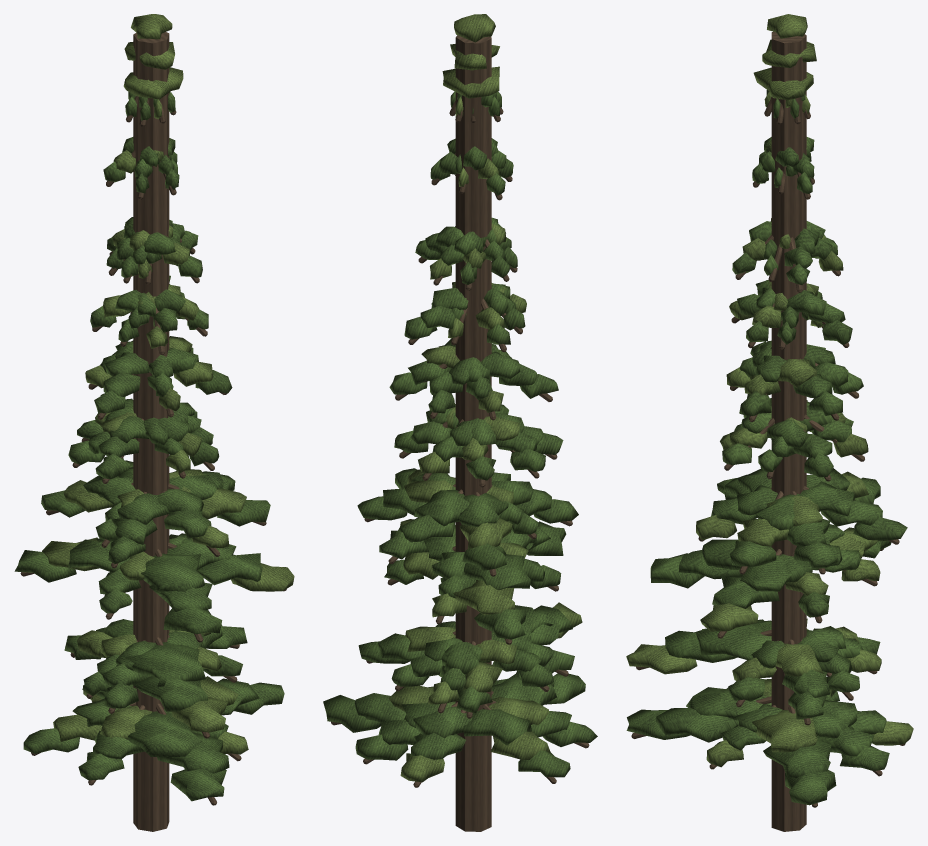
Rendered from pine_a.glb.
The picture shows the model from 3 angles, left to right: view 1: azimuth 30°, elevation 25°; view 2: azimuth 150°, elevation 25°; view 3: azimuth 270°, elevation 25°; orthographic projection.
Parts seen in each view (by area): view 1: pine_a__Pine_needles, pine_a__Sunlit_pine_tips, pine_a__Dark_endgrain; view 2: pine_a__Pine_needles, pine_a__Sunlit_pine_tips, pine_a__Dark_endgrain; view 3: pine_a__Pine_needles, pine_a__Sunlit_pine_tips, pine_a__Dark_endgrain.
Boxes of the visible parts, x1=… form: pine_a__Pine_needles: x1=14, y1=91, x2=284, y2=801; pine_a__Sunlit_pine_tips: x1=42, y1=14, x2=294, y2=754; pine_a__Dark_endgrain: x1=20, y1=32, x2=286, y2=831; pine_a__Pine_needles: x1=323, y1=91, x2=597, y2=777; pine_a__Sunlit_pine_tips: x1=389, y1=14, x2=582, y2=782; pine_a__Dark_endgrain: x1=331, y1=35, x2=589, y2=831; pine_a__Pine_needles: x1=626, y1=90, x2=907, y2=805; pine_a__Sunlit_pine_tips: x1=626, y1=14, x2=913, y2=767; pine_a__Dark_endgrain: x1=631, y1=31, x2=905, y2=831.
Size of the model in its own units: 1.23 by 3.82 by 1.23.
Materials: 3 (3 with a texture image).
